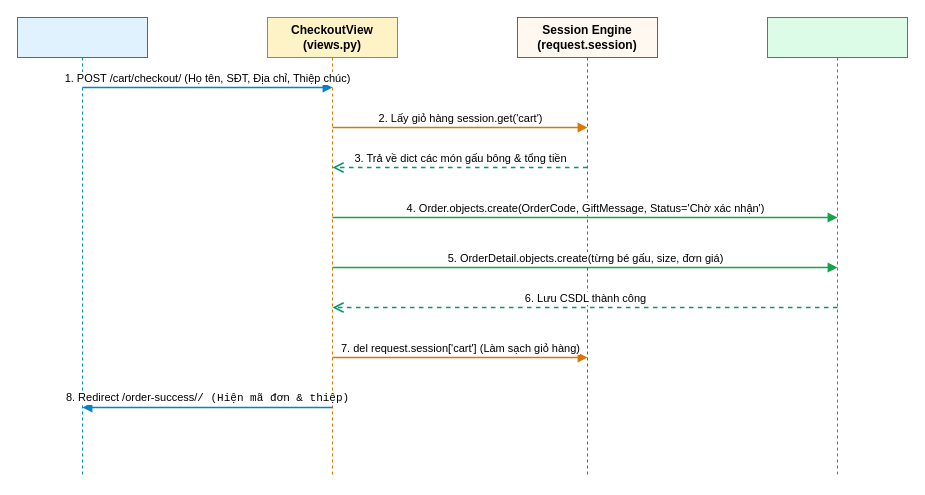
The diagram is 925 pixels wide and 495 high, and some of its shapes have lost their labels. Each missing label, with the box of its shape:
Khách Hàng (Web Browser): (16, 16, 148, 478)
SQL Server DB (Orders & Details): (766, 16, 908, 478)
